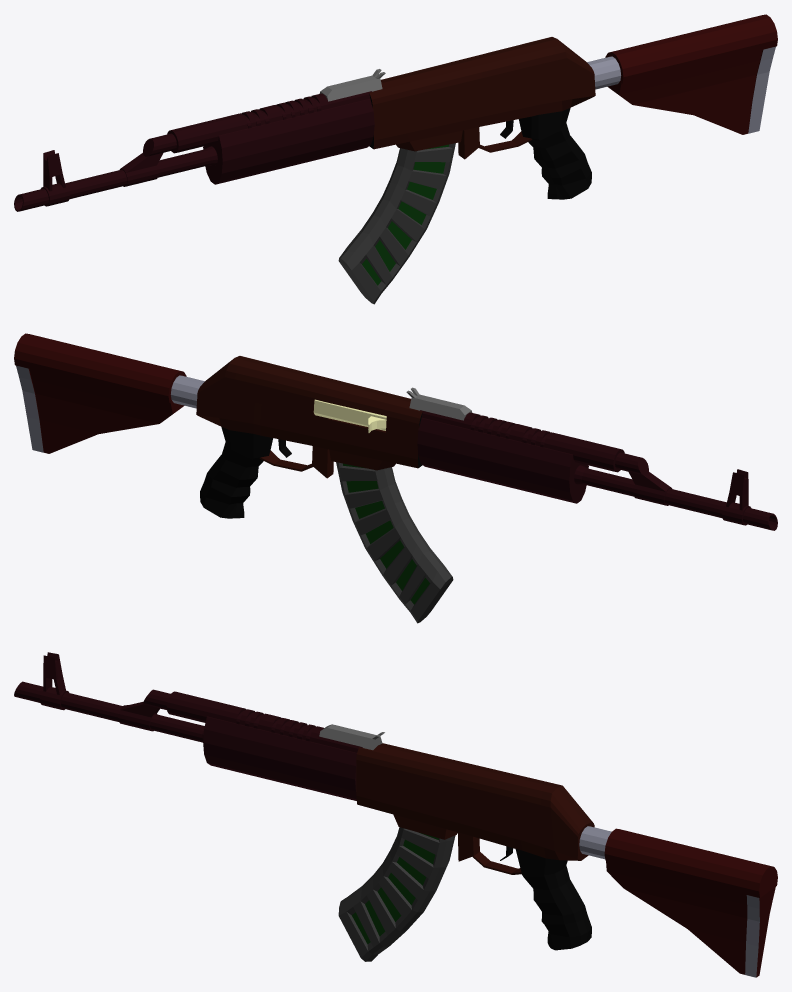
Rendered from Akms_Mf1.fbx.
3 renders of one model, top to bottom at view 1: azimuth 30°, elevation 25°; view 2: azimuth 150°, elevation 25°; view 3: azimuth 330°, elevation 25°, orthographic.
Visible parts, largest first — view 1: Основание, Ствол, Приклад, Магазин, Прицел; view 2: Основание, Ствол, Приклад, Магазин, Затвор, Прицел; view 3: Основание, Ствол, Приклад, Магазин, Прицел.
Boxes of the visible parts, bbox=[...] form: Основание: bbox=[369, 37, 595, 199]; Ствол: bbox=[14, 91, 374, 211]; Приклад: bbox=[587, 14, 777, 134]; Магазин: bbox=[338, 143, 455, 304]; Прицел: bbox=[319, 69, 385, 101]; Основание: bbox=[196, 356, 422, 518]; Ствол: bbox=[417, 410, 777, 530]; Приклад: bbox=[14, 333, 204, 453]; Магазин: bbox=[336, 462, 453, 623]; Затвор: bbox=[313, 399, 386, 432]; Прицел: bbox=[406, 387, 472, 420]; Основание: bbox=[356, 743, 594, 950]; Ствол: bbox=[14, 652, 362, 800]; Приклад: bbox=[579, 826, 777, 977]; Магазин: bbox=[338, 827, 455, 961]; Прицел: bbox=[319, 724, 384, 750].
Bounding box in the file's own units: 649 × 189 × 40.14.
